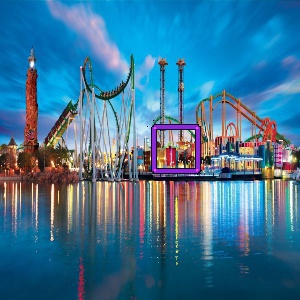square: (150, 123, 202, 175)
